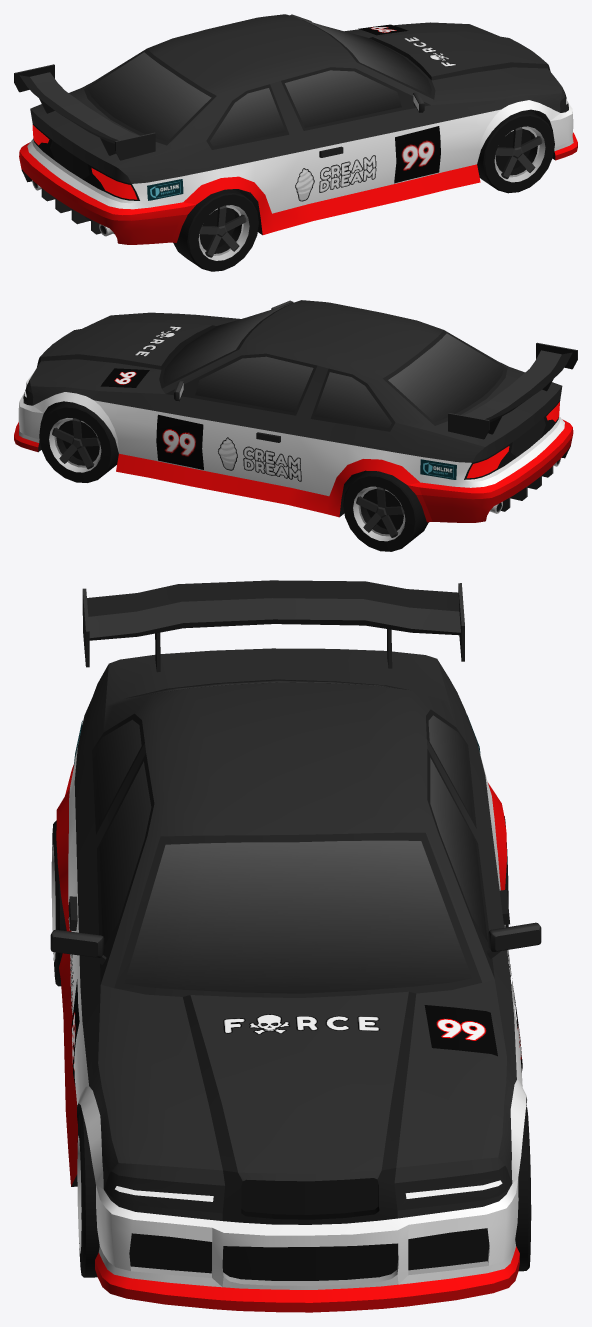
The model's file is RaceCar_075.glb.
3 renders of one model, top to bottom at view 1: azimuth 30°, elevation 25°; view 2: azimuth 150°, elevation 25°; view 3: azimuth 270°, elevation 25°, orthographic. The views are drawn at different scales.
Parts seen in each view (by area): view 1: RaceCar_075, wheel_3_RaceCar_075_Wheel_2R, wheel_1_RaceCar_075_Wheel_1R; view 2: RaceCar_075, wheel_2_RaceCar_075_Wheel_2L, wheel_0_RaceCar_075_Wheel_1L; view 3: RaceCar_075, wheel_1_RaceCar_075_Wheel_1R, wheel_0_RaceCar_075_Wheel_1L, wheel_3_RaceCar_075_Wheel_2R.
Part boxes in pixels (x1,y1,x2,y2): RaceCar_075: [14, 14, 577, 244]; wheel_3_RaceCar_075_Wheel_2R: [173, 189, 258, 271]; wheel_1_RaceCar_075_Wheel_1R: [477, 110, 554, 193]; RaceCar_075: [14, 300, 577, 522]; wheel_2_RaceCar_075_Wheel_2L: [343, 471, 428, 551]; wheel_0_RaceCar_075_Wheel_1L: [39, 401, 118, 482]; RaceCar_075: [50, 580, 541, 1312]; wheel_1_RaceCar_075_Wheel_1R: [77, 1112, 99, 1277]; wheel_0_RaceCar_075_Wheel_1L: [515, 1107, 531, 1271]; wheel_3_RaceCar_075_Wheel_2R: [51, 820, 66, 986].
Size of the model in its own units: 4.58 by 1.41 by 1.98.
Materials: 3 (3 with a texture image).
